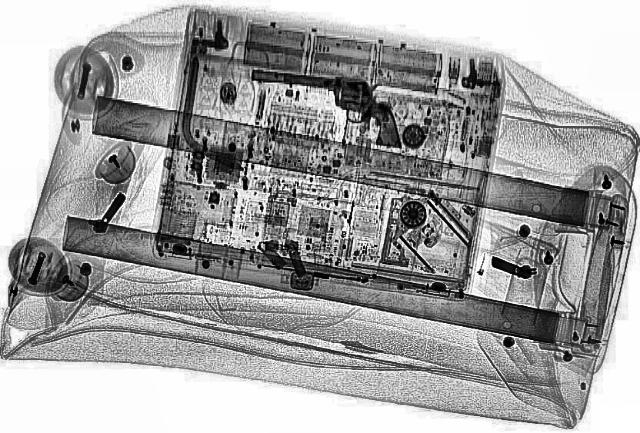Gun: (234, 66, 420, 148)
